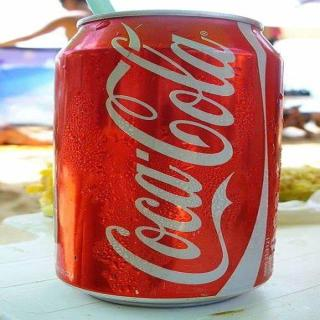Anorganik: (50, 9, 282, 309)
